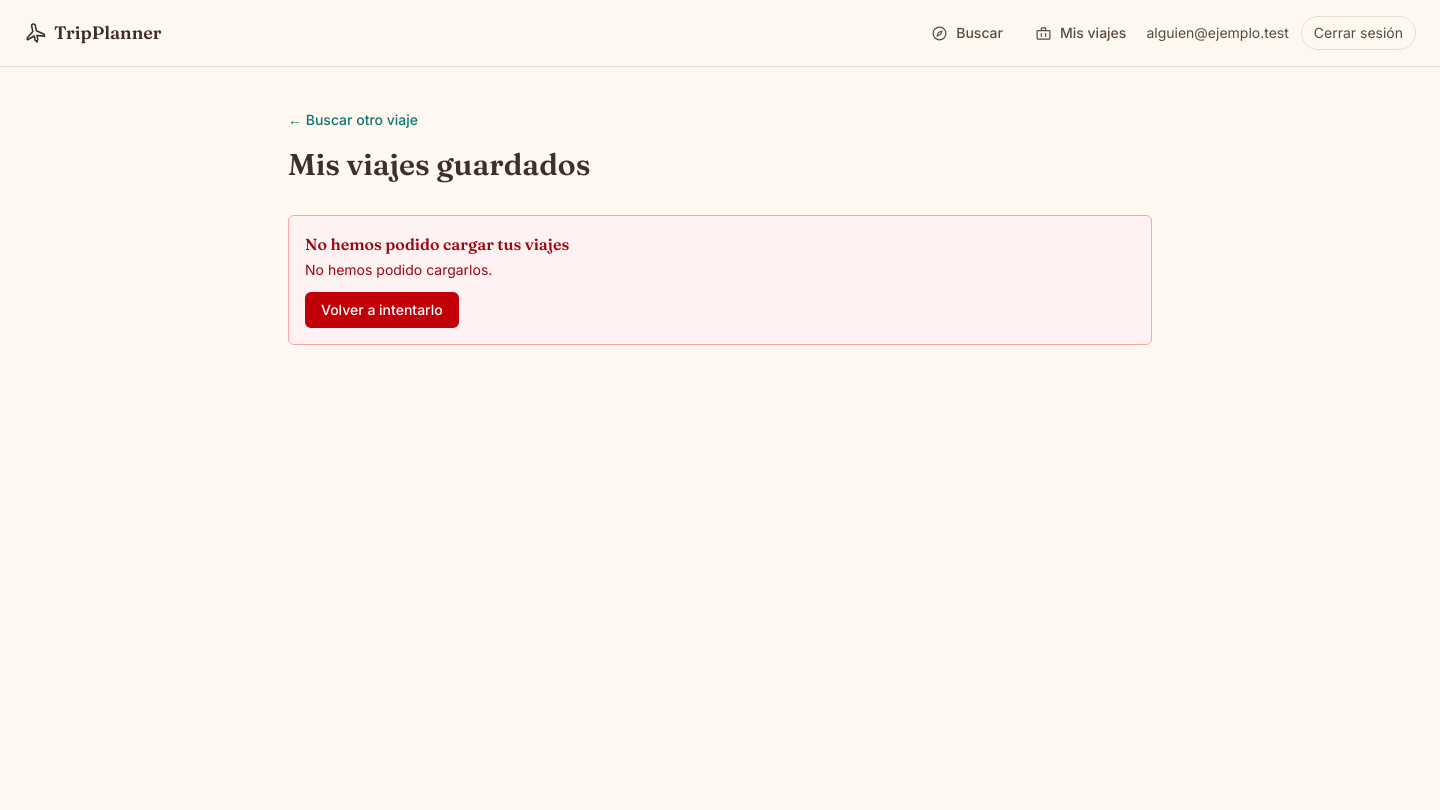
Mis viajes guardados › enseña el error y deja reintentar cuando el servidor falla
Expected: the text "No hemos podido cargarlos." is shown, [305,261,492,278]
Click the button "Volver a intentarlo": (382, 310) [305,292,459,328]
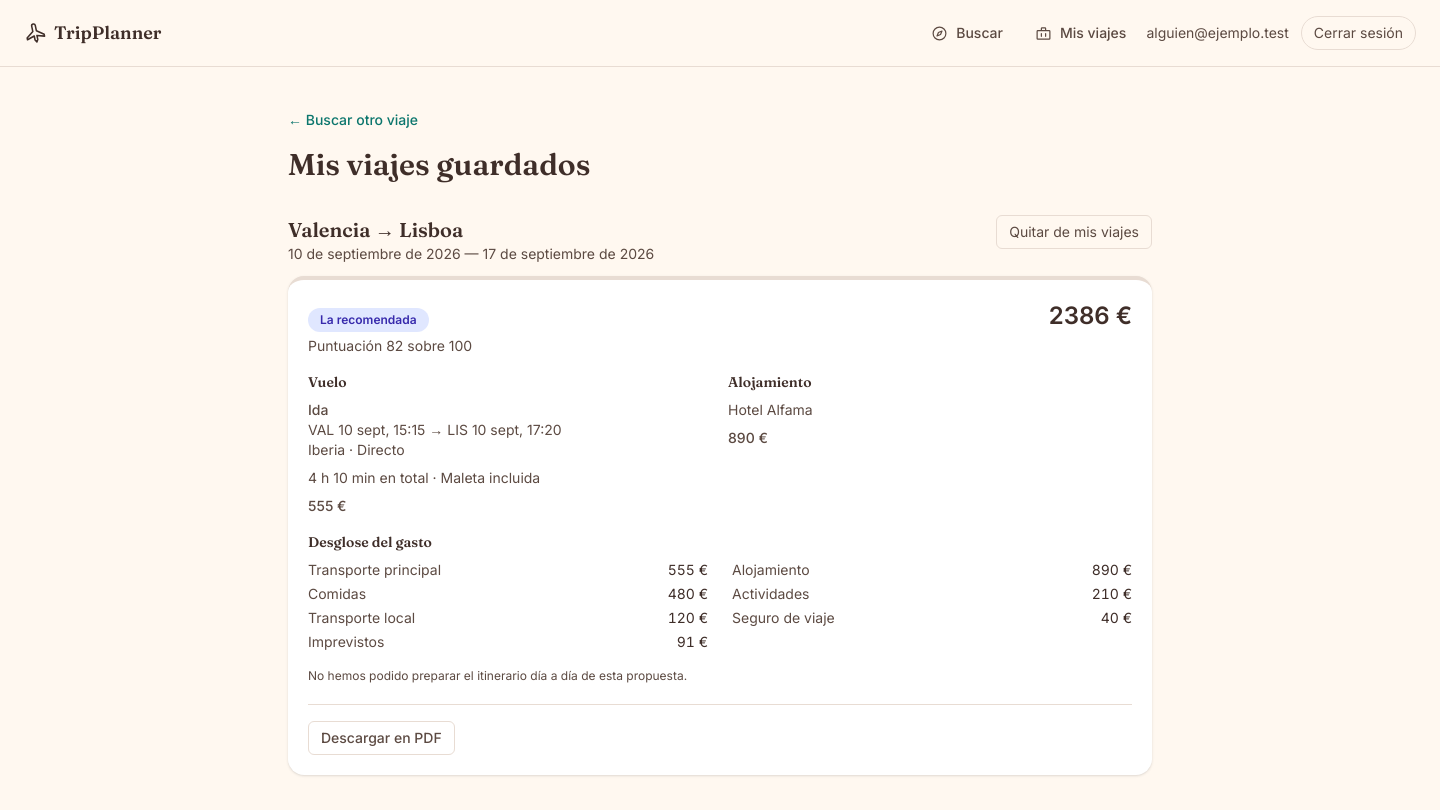
Now the heading "Valencia → Lisboa" is shown, box [288,217,463,242]
